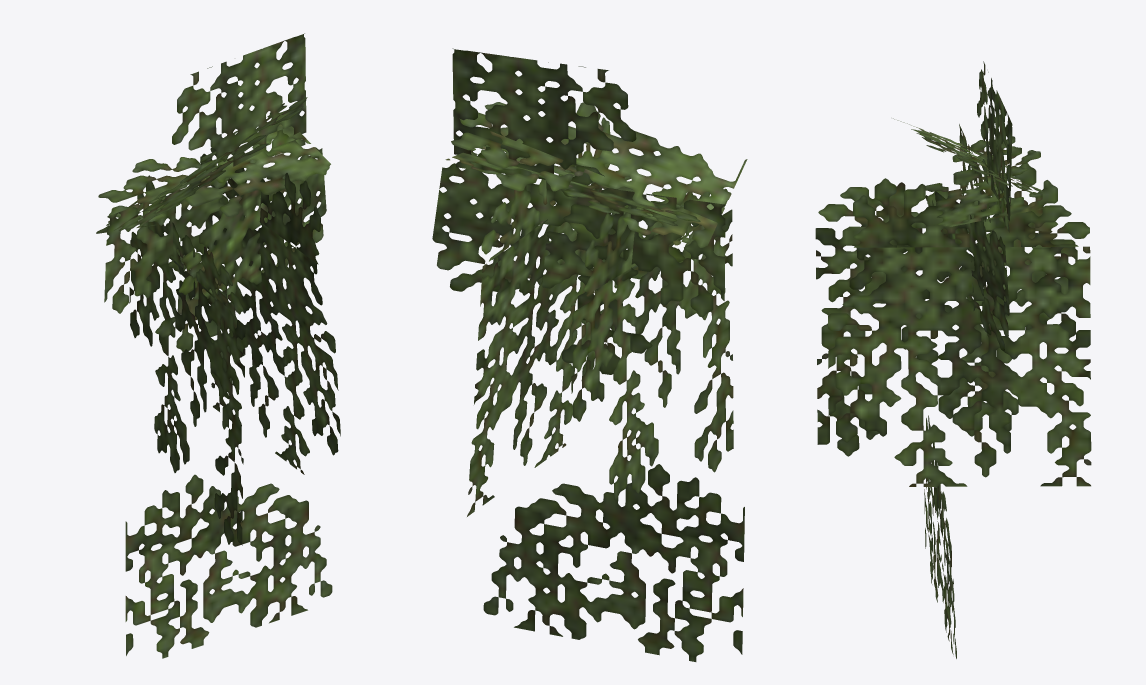
The model's file is birch_leaves_vertical_slab_2.obj.
3 renders of one model, left to right at view 1: azimuth 30°, elevation 25°; view 2: azimuth 150°, elevation 25°; view 3: azimuth 270°, elevation 25°, orthographic. The views are drawn at different scales.
Visible parts, largest first — view 1: south, west, east, north, bottom, top; view 2: south, west, east, north, top, bottom; view 3: south, north, bottom, east, west, top.
Boxes of the visible parts, box(x1,y1,x2,y2) form: south: box(178, 147, 340, 474); west: box(125, 474, 332, 658); east: box(104, 33, 306, 351); north: box(129, 175, 245, 545); bottom: box(98, 124, 330, 221); top: box(96, 97, 307, 233); south: box(432, 117, 685, 516); west: box(483, 464, 744, 661); east: box(452, 48, 725, 374); north: box(571, 188, 733, 500); top: box(451, 102, 747, 247); bottom: box(445, 145, 700, 225); south: box(828, 178, 1091, 486); north: box(815, 163, 1077, 456); bottom: box(925, 136, 1042, 226); east: box(959, 61, 1012, 336); west: box(923, 415, 956, 658); top: box(893, 118, 1043, 194).
Bounding box in the file's own units: 1.73 × 3.61 × 1.81.
